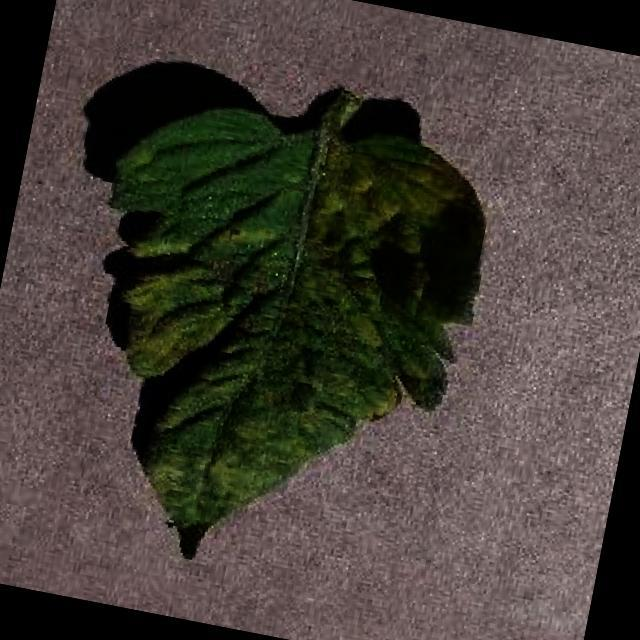Tomato mold leaf: (49, 84, 505, 608)
